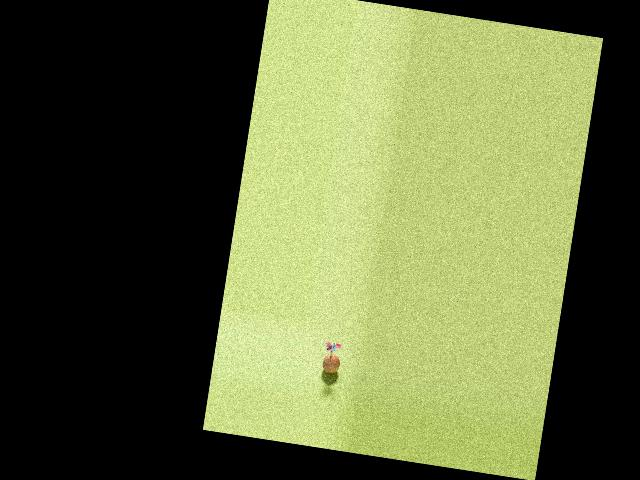egg: (321, 352, 340, 374)
